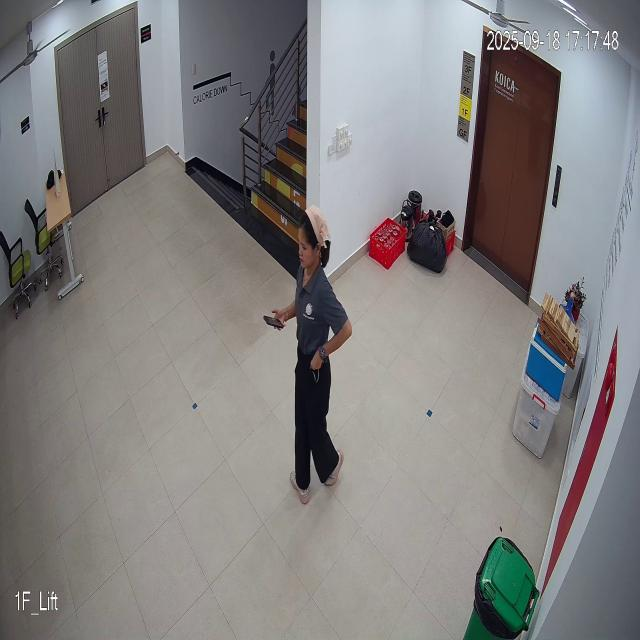face: (294, 204, 332, 277)
